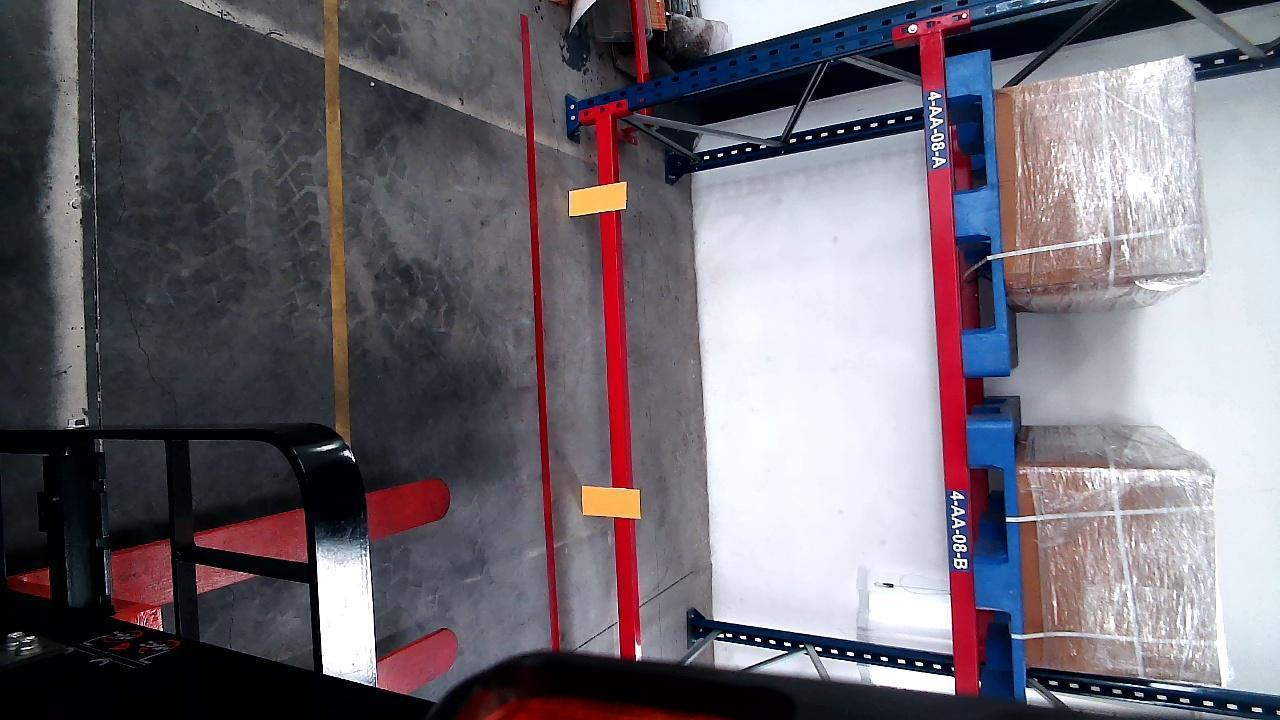h_rack: (922, 38, 980, 693), (598, 117, 635, 643)
orange_strip: (571, 182, 626, 216), (581, 486, 641, 517)
red_line: (523, 18, 559, 657)
small_pallet: (948, 52, 1006, 376), (971, 422, 1026, 687)
yellow_line: (325, 0, 351, 445)
